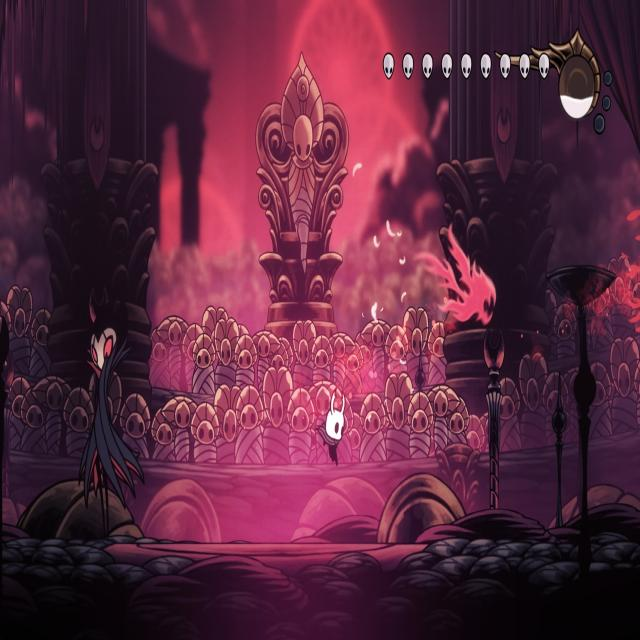Fire Bat: (413, 229, 494, 328)
Grimm: (74, 311, 150, 540)
Player: (317, 383, 349, 468)
